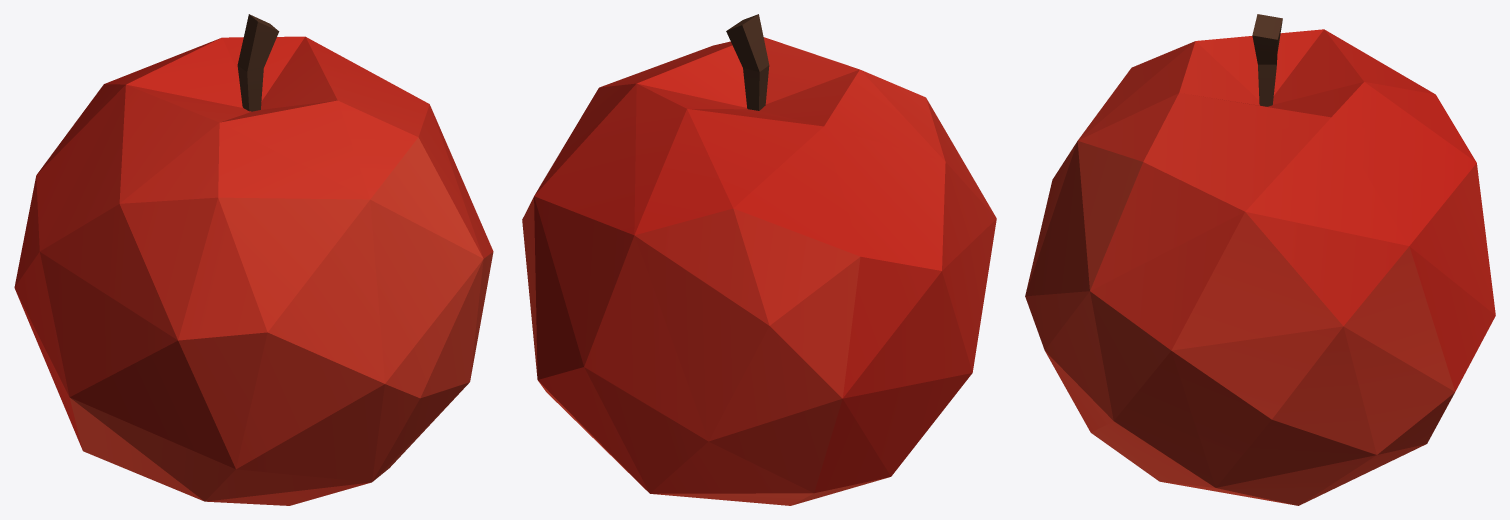
File: RedAplle.fbx
The picture shows the model from 3 angles, left to right: view 1: azimuth 30°, elevation 25°; view 2: azimuth 150°, elevation 25°; view 3: azimuth 270°, elevation 25°; orthographic projection.
Visible parts, largest first — view 1: Cube.004; view 2: Cube.004; view 3: Cube.004.
Boxes of the visible parts, box(x1,y1,x2,y2) form: Cube.004: box(14, 14, 493, 505); Cube.004: box(522, 14, 996, 505); Cube.004: box(1025, 14, 1495, 505).
Bounding box in the file's own units: 33.4 × 37.16 × 34.18.
